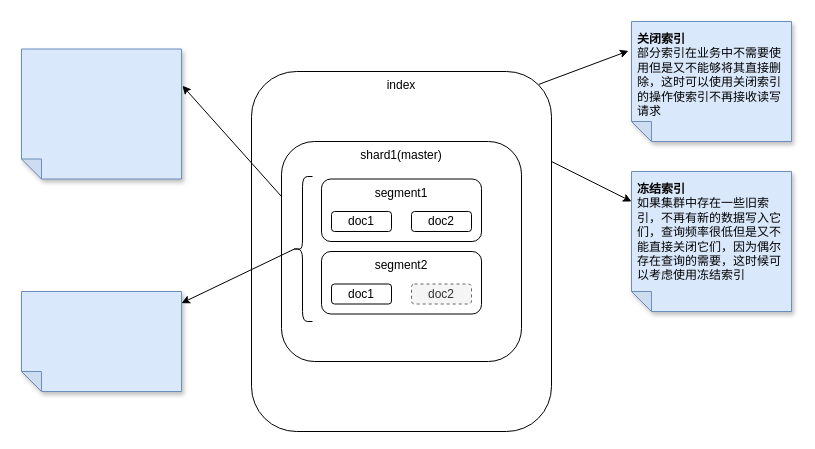
This 815x449 diagram has some shape labels left out. The centre of each missing label's shape, as x and y in pixels:
主分片 每个主分片是一个Lucence索引 一个Lucene索引又包含一到多个段(segment): [102,115]
合并索引 把分片内部很多零碎的小段合并成大段并去除被删除的文档: [102,342]
